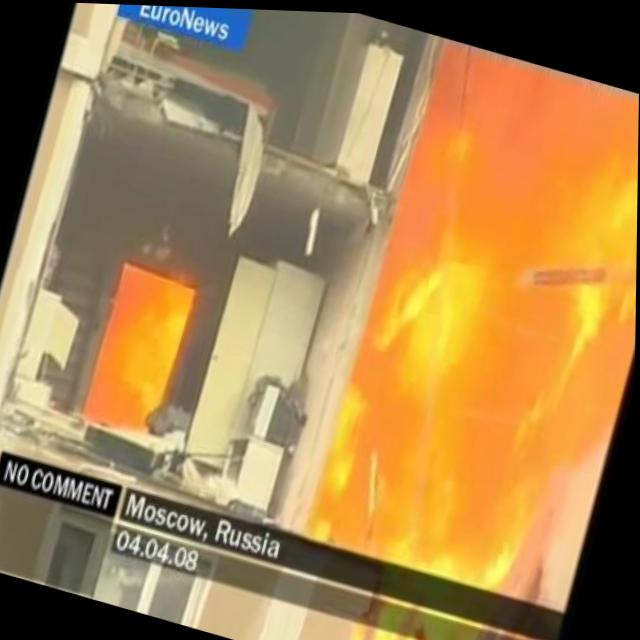fire: (308, 30, 640, 612), (80, 258, 197, 445)
